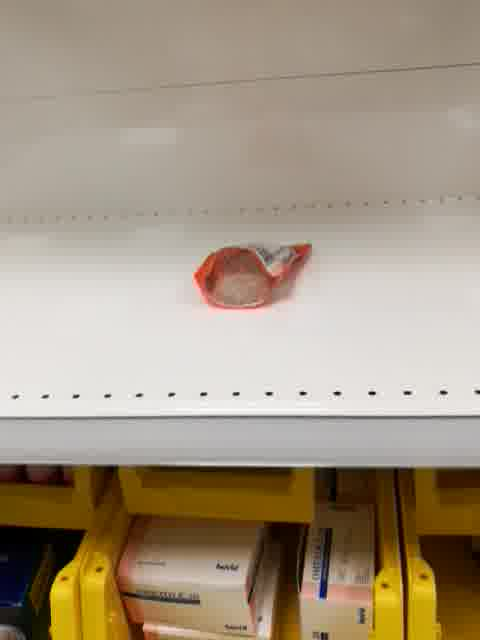whitechia: (192, 241, 313, 312)
